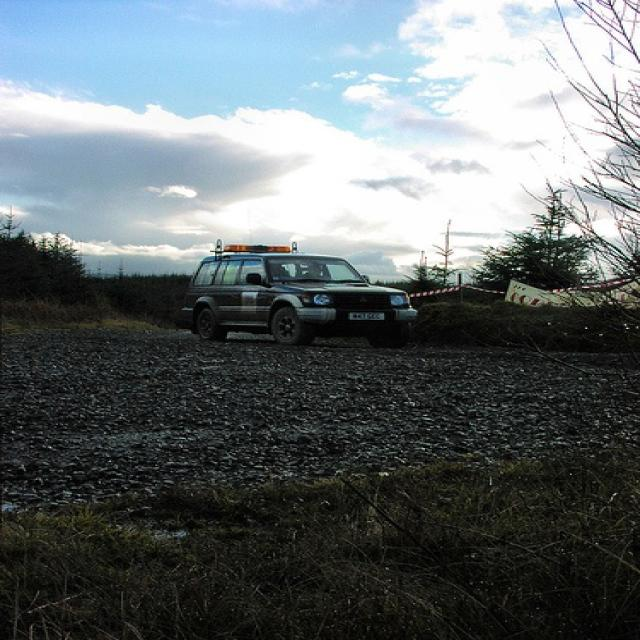car: (181, 240, 416, 346)
